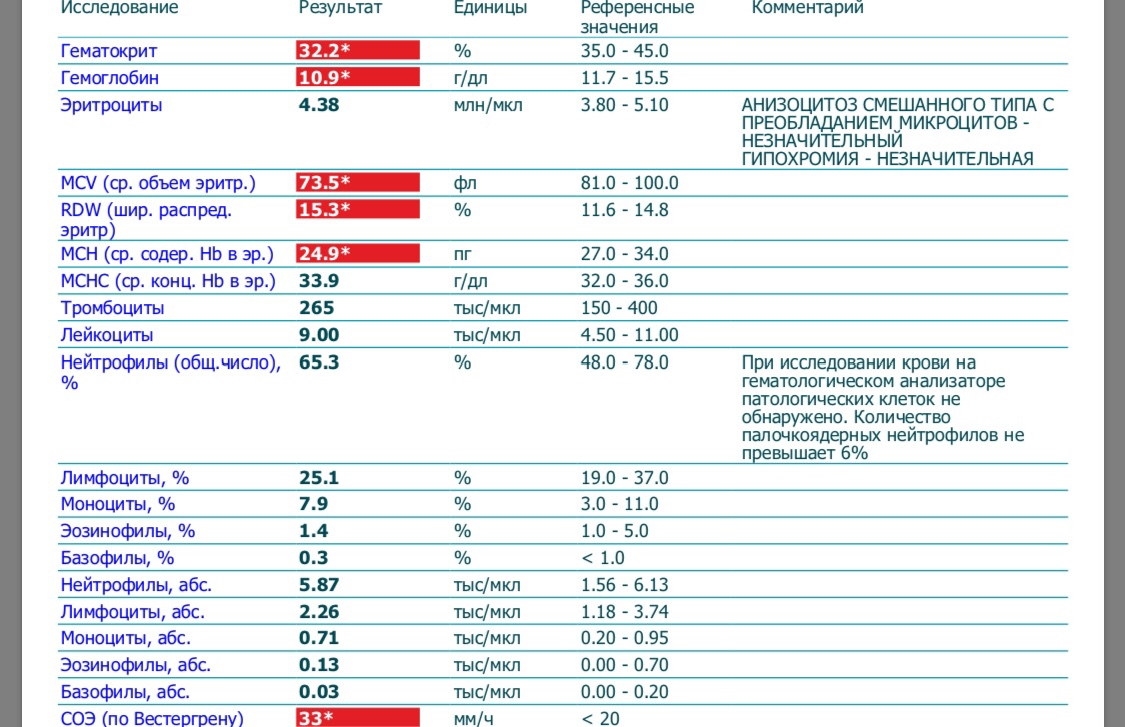column: (740, 0, 1054, 727), (60, 0, 280, 727), (580, 0, 694, 727), (298, 0, 383, 727), (453, 0, 527, 727)
